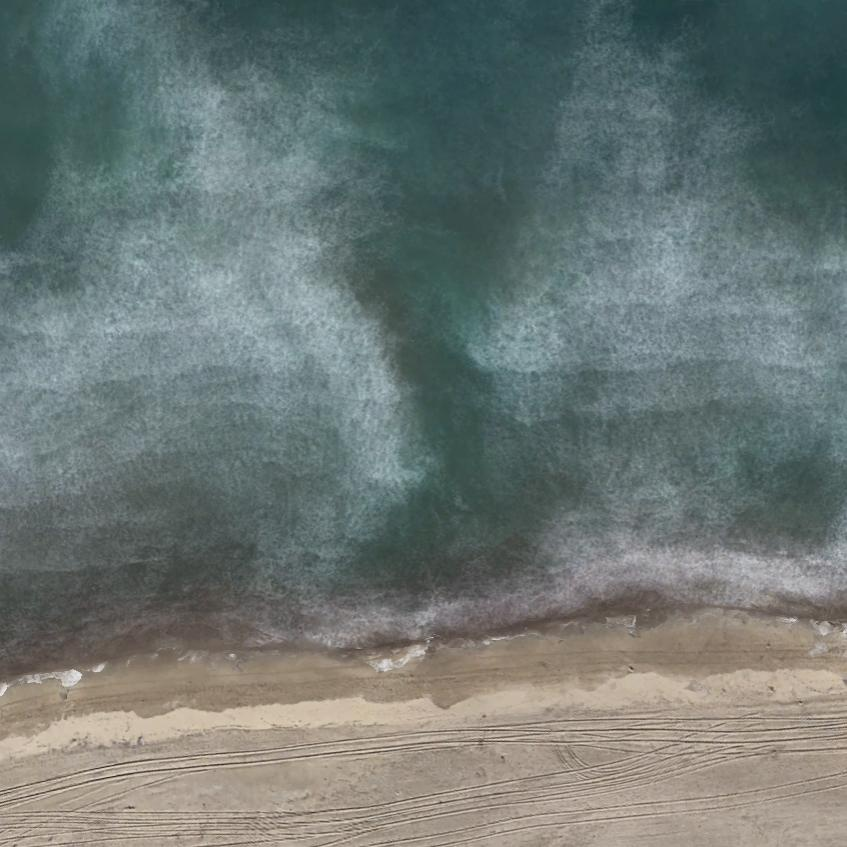rip_current: (272, 69, 591, 579)
